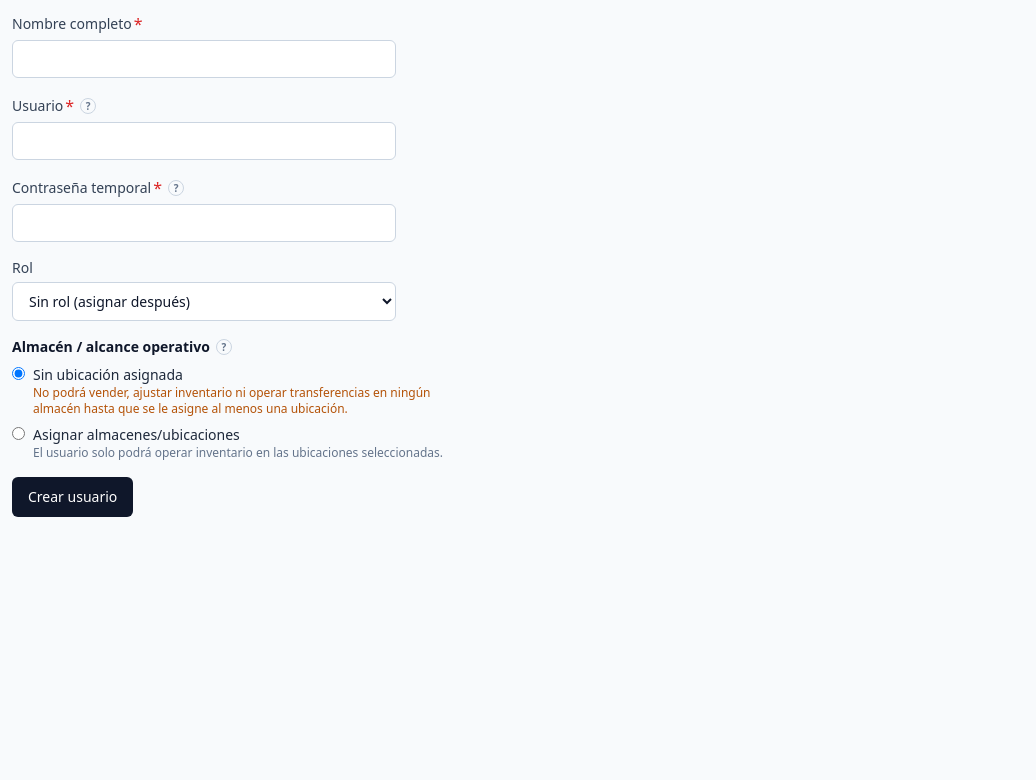
Test case: CreateUserForm — location assignment (single flow, reuses PUT /users/:id/locations) › blocks submit client-side when "restricted" is chosen with zero locations selected
In the field labelled "Nombre completo": (204, 59) [12, 40, 396, 78], type "Ana Lopez"
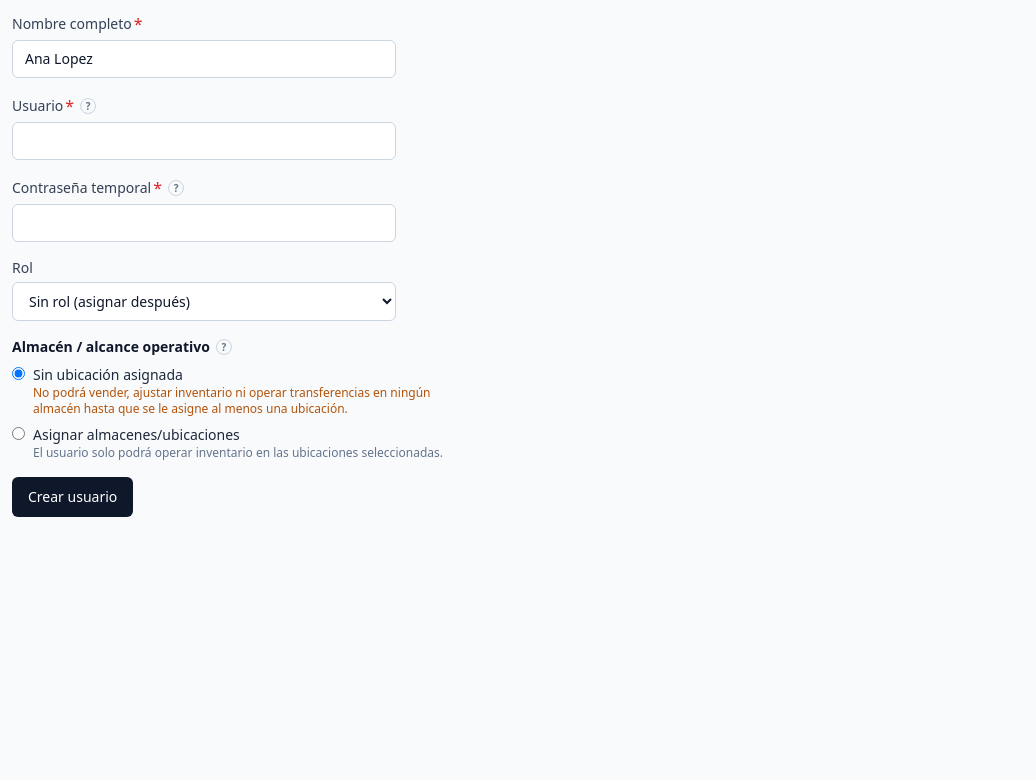
In the field labelled "Usuario": (204, 141) [12, 122, 396, 160], type "ana@example.com"
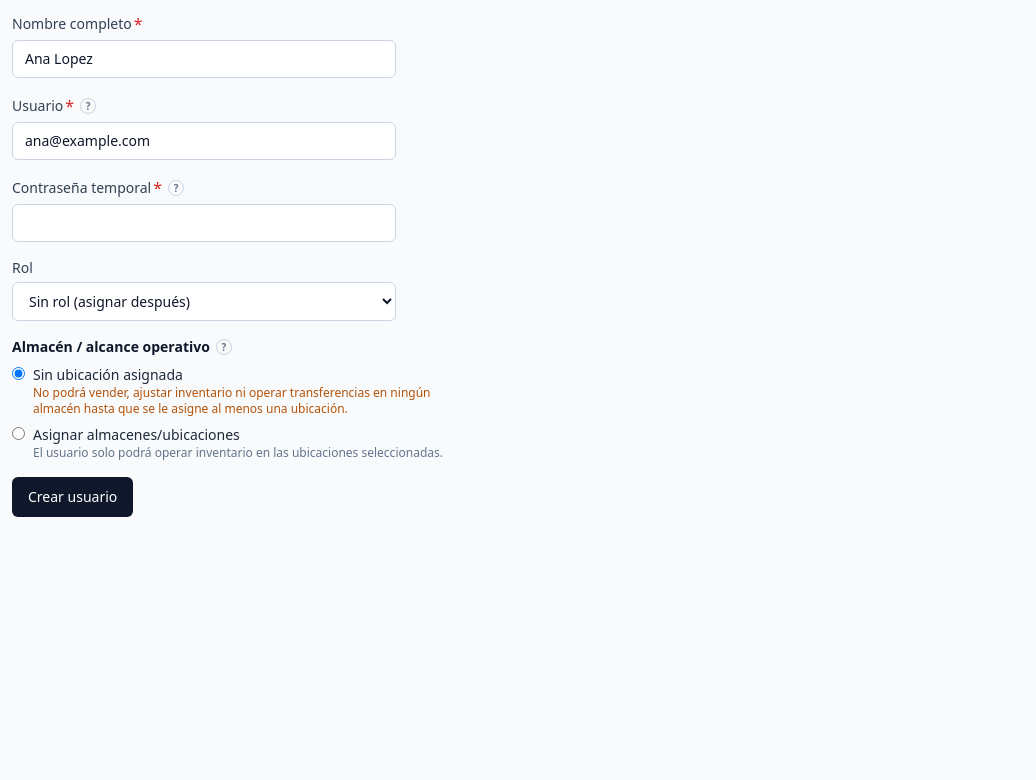
In the password field labelled "Contraseña temporal": (204, 223) [12, 204, 396, 242], type "a-very-long-password"
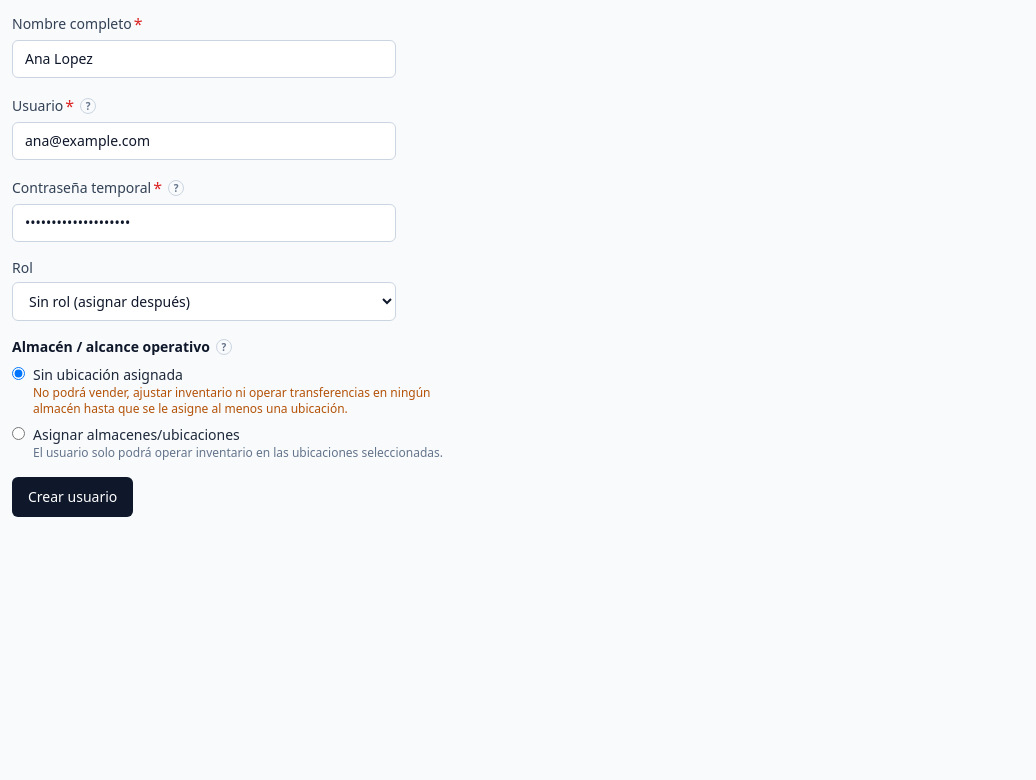
Click the radio button labelled "Asignar almacenes/ubicaciones": (18, 434) [12, 427, 25, 440]
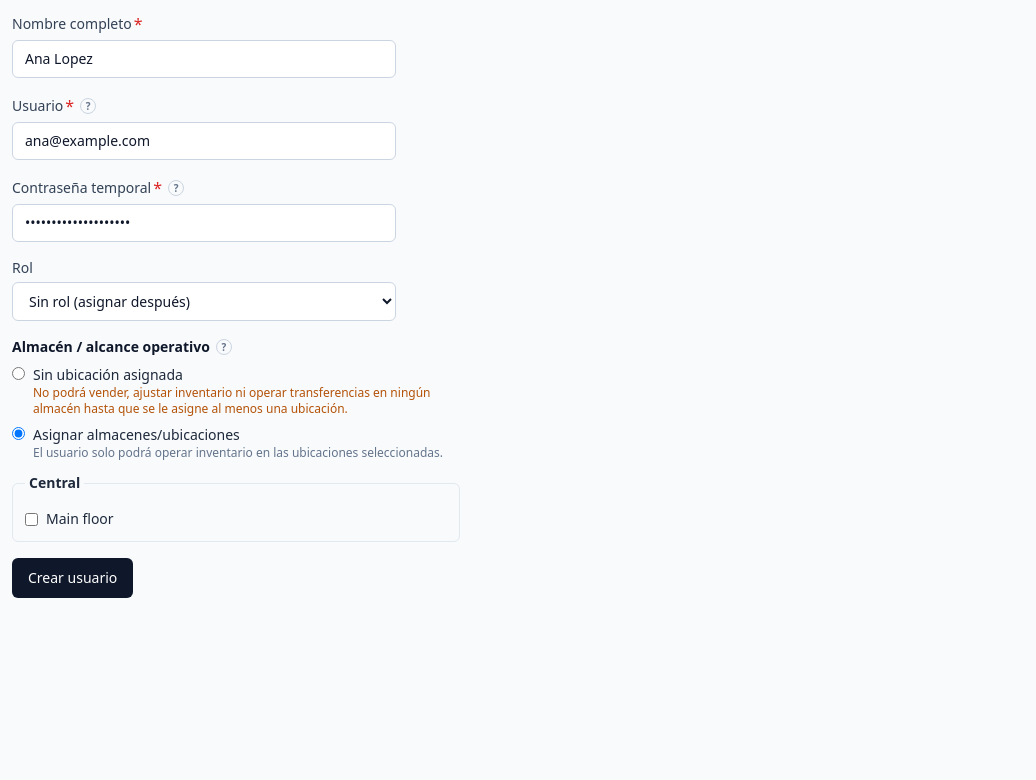
Click the button "Crear usuario": (73, 578) [12, 558, 133, 598]
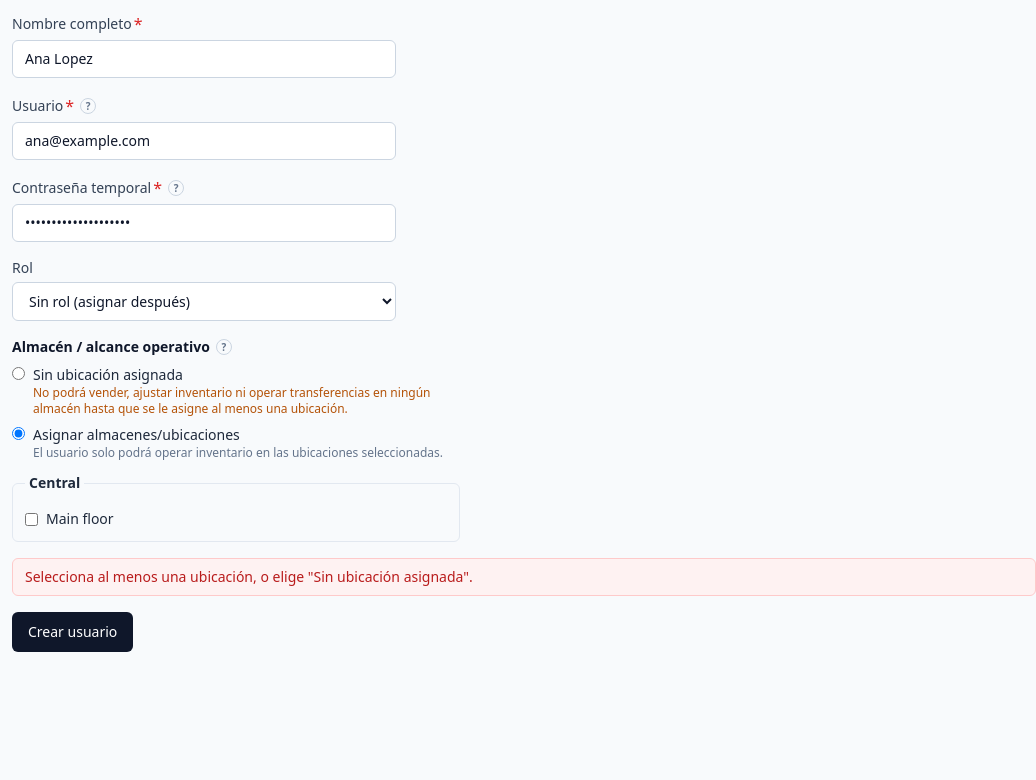
Check: the text "Selecciona al menos una ubicación" is shown, box [25, 567, 473, 586]
